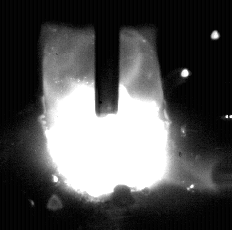arame: (96, 0, 120, 118)
poca: (45, 0, 169, 230)
